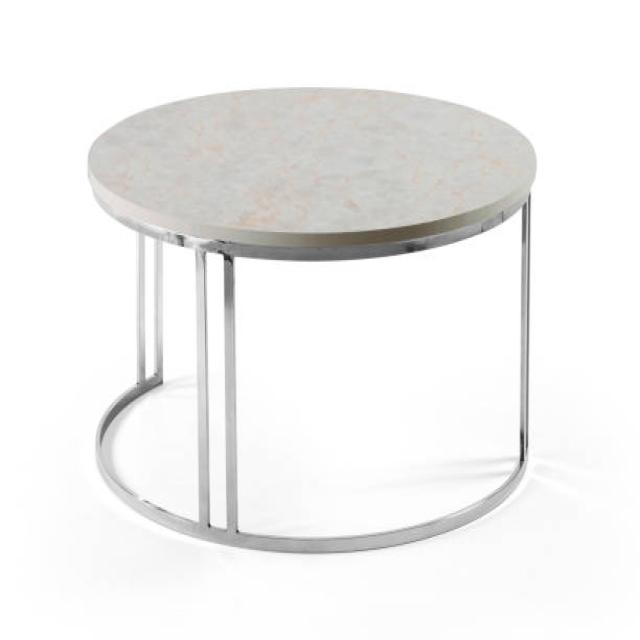table: (86, 84, 536, 553)
